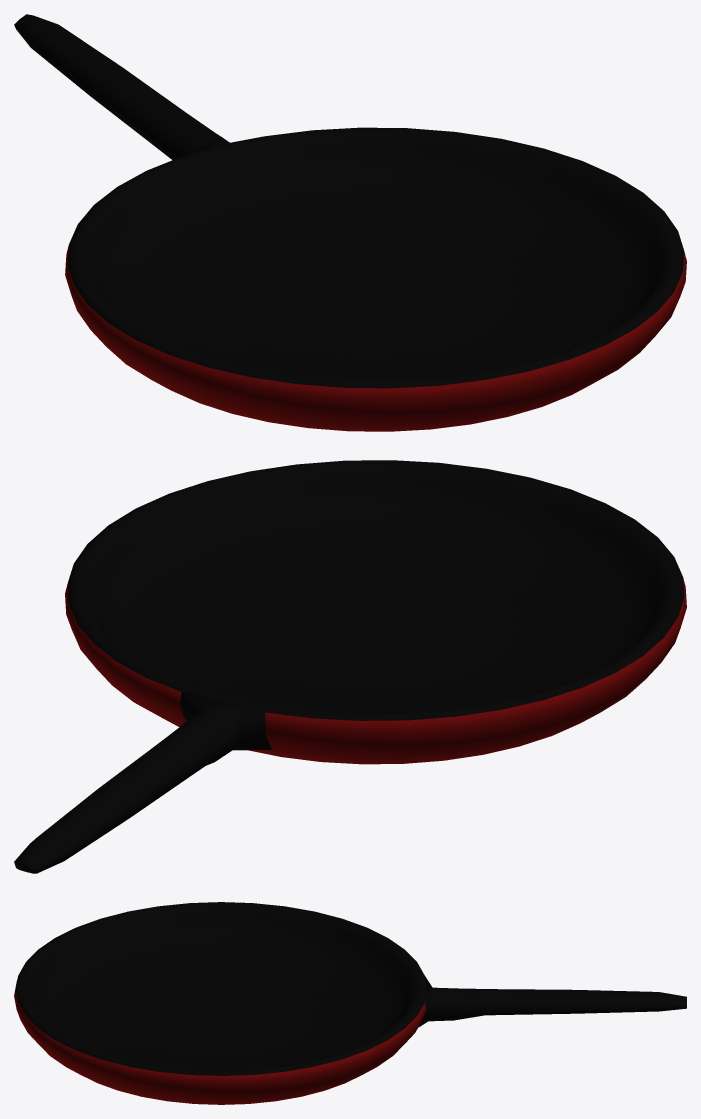
Rendered from fryingPan_HQ.fbx.
3 views of the same model, one above another, from view 1: azimuth 30°, elevation 25°; view 2: azimuth 150°, elevation 25°; view 3: azimuth 270°, elevation 25° (orthographic). The views are drawn at different scales.
Parts seen in each view (by area): view 1: pCylinder4, pCylinder5; view 2: pCylinder4, pCylinder5; view 3: pCylinder4, pCylinder5.
Boxes of the visible parts, <box> form: pCylinder4: <box>65,127,686,431</box>; pCylinder5: <box>14,14,260,160</box>; pCylinder4: <box>65,460,686,764</box>; pCylinder5: <box>14,692,271,873</box>; pCylinder4: <box>14,902,426,1104</box>; pCylinder5: <box>418,976,686,1027</box>.
Bounding box in the file's own units: 1.98 × 0.2796 × 3.2.
